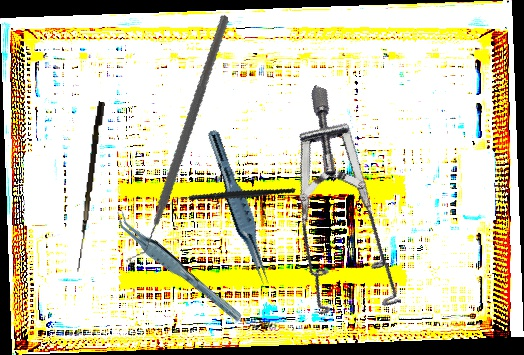Chopper: (75, 13, 277, 264), (167, 155, 296, 240)
Hook Surgical: (77, 100, 105, 274)
Speculum: (233, 84, 466, 342)
Tissue Forceps: (110, 199, 244, 335), (197, 128, 280, 288)
